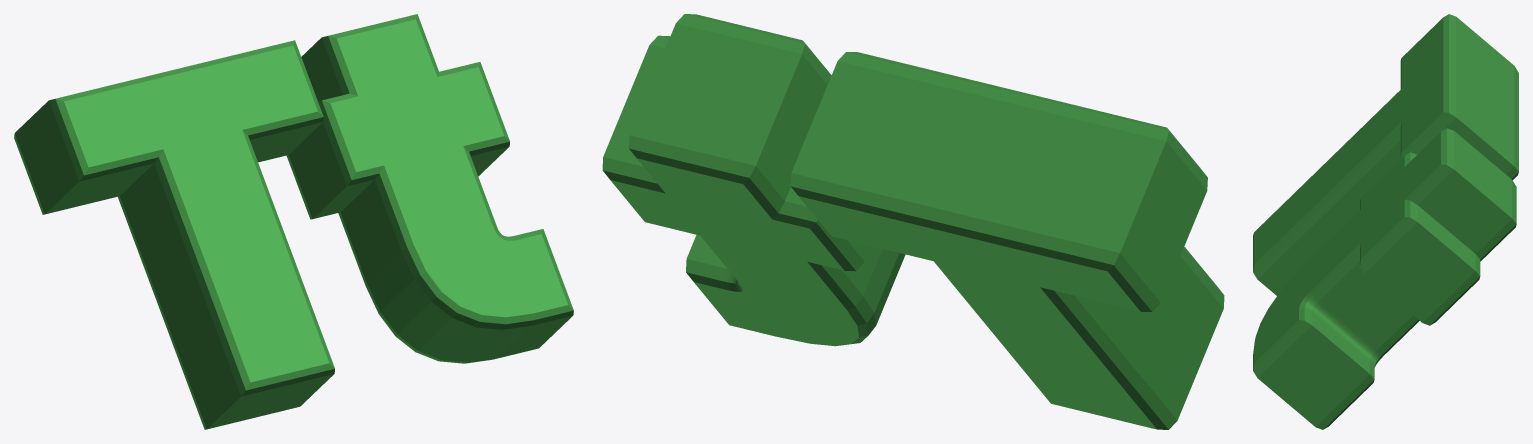
3 renders of one model, left to right at view 1: azimuth 30°, elevation 25°; view 2: azimuth 150°, elevation 25°; view 3: azimuth 270°, elevation 25°, orthographic. The views are drawn at different scales.
Visible parts, largest first — view 1: letter; view 2: letter; view 3: letter.
Part boxes in pixels (x1,y1,x2,y2): letter: (14,14,573,429); letter: (602,14,1224,429); letter: (1253,14,1518,429).
Bounding box in the file's own units: 1.4 × 0.9716 × 0.9377.
